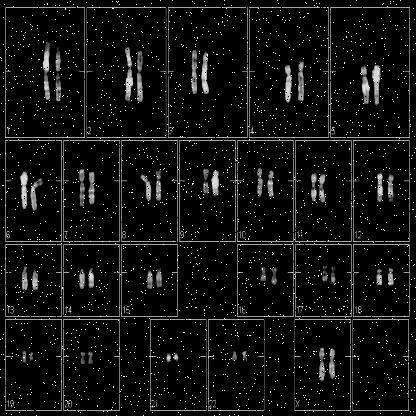1: (40, 40, 51, 102), (54, 43, 63, 103)
10: (266, 168, 276, 200), (255, 166, 264, 197)
11: (318, 171, 326, 207), (310, 171, 318, 203)
12: (386, 172, 396, 206), (375, 171, 384, 204)
13: (30, 265, 40, 293), (21, 264, 30, 294)
14: (76, 262, 86, 292), (88, 264, 96, 290)
15: (153, 264, 163, 290), (145, 266, 153, 292)
16: (268, 264, 279, 287), (260, 264, 267, 283)
17: (328, 262, 337, 288), (320, 263, 329, 283)
18: (376, 266, 384, 288), (387, 264, 394, 289)
19: (27, 348, 35, 364), (21, 348, 28, 366)
2: (122, 44, 134, 104), (136, 48, 144, 106)
20: (87, 346, 94, 366), (79, 348, 86, 366)
21: (164, 350, 172, 364), (173, 349, 180, 365)
22: (230, 348, 238, 363), (241, 349, 248, 365)
3: (201, 50, 210, 96), (190, 47, 198, 98)
4: (296, 58, 305, 102), (283, 62, 292, 104)
5: (358, 62, 372, 106), (370, 62, 382, 108)
6: (30, 177, 44, 214), (18, 170, 30, 212)
7: (76, 166, 86, 209), (86, 169, 96, 208)
8: (138, 172, 152, 202), (154, 166, 162, 202)
9: (210, 168, 220, 198), (202, 166, 210, 198)
X: (328, 344, 337, 384), (318, 344, 326, 383)
